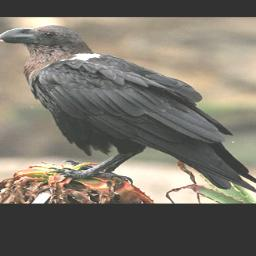Crow: (0, 24, 256, 195)
